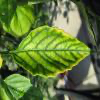Bell_pepper leaf: (11, 25, 97, 77)
